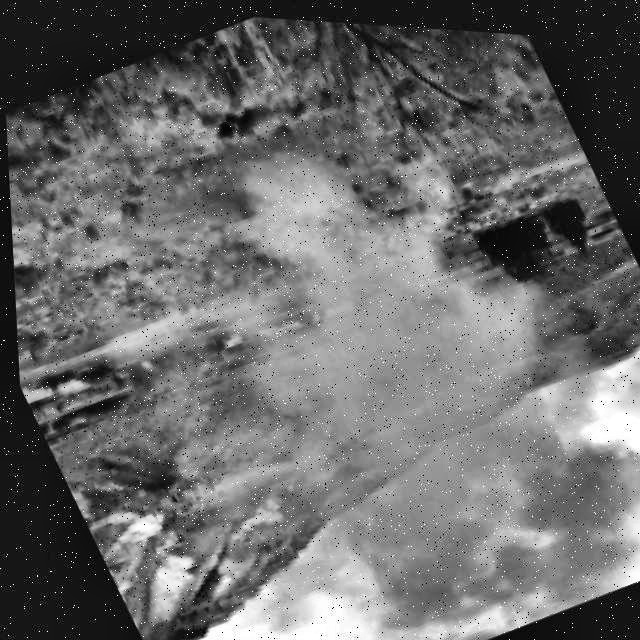Smoke: (8, 22, 640, 640)
